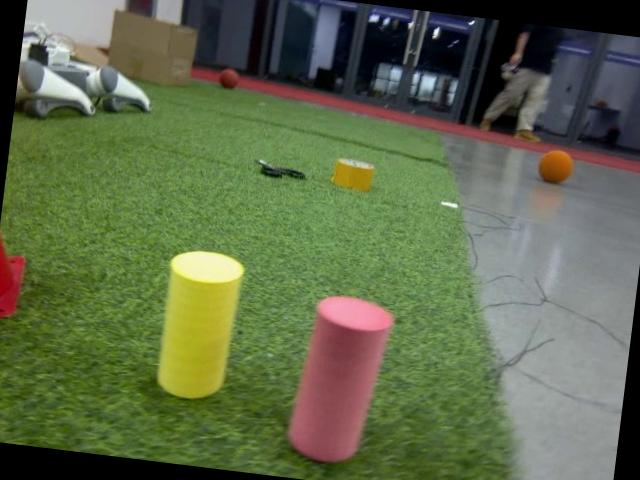orange_ball: (533, 146, 576, 186)
red_ball: (218, 68, 240, 90)
red_cylinder: (278, 288, 398, 471)
yellow_cylinder: (150, 245, 248, 407)
